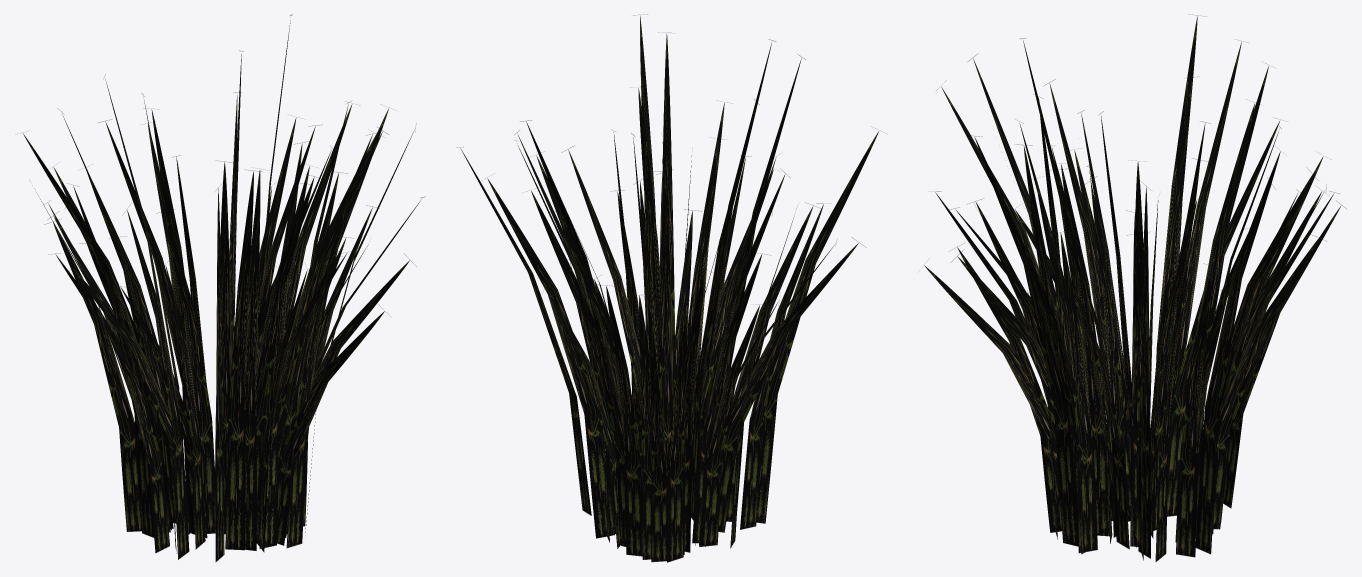
The model's file is prairie_grass_clump_01.glb.
3 views of the same model, side by side, from view 1: azimuth 30°, elevation 25°; view 2: azimuth 150°, elevation 25°; view 3: azimuth 270°, elevation 25° (orthographic). The views are drawn at different scales.
Visible parts, largest first — view 1: prairie_grass_clump_01; view 2: prairie_grass_clump_01; view 3: prairie_grass_clump_01.
Boxes of the visible parts, x1,y1,x2,y2 form: prairie_grass_clump_01: [23, 14, 425, 562]; prairie_grass_clump_01: [456, 14, 880, 562]; prairie_grass_clump_01: [924, 14, 1344, 562].
Size of the model in its own units: 1.05 by 1.16 by 1.02.
1 material, 1 textured.
